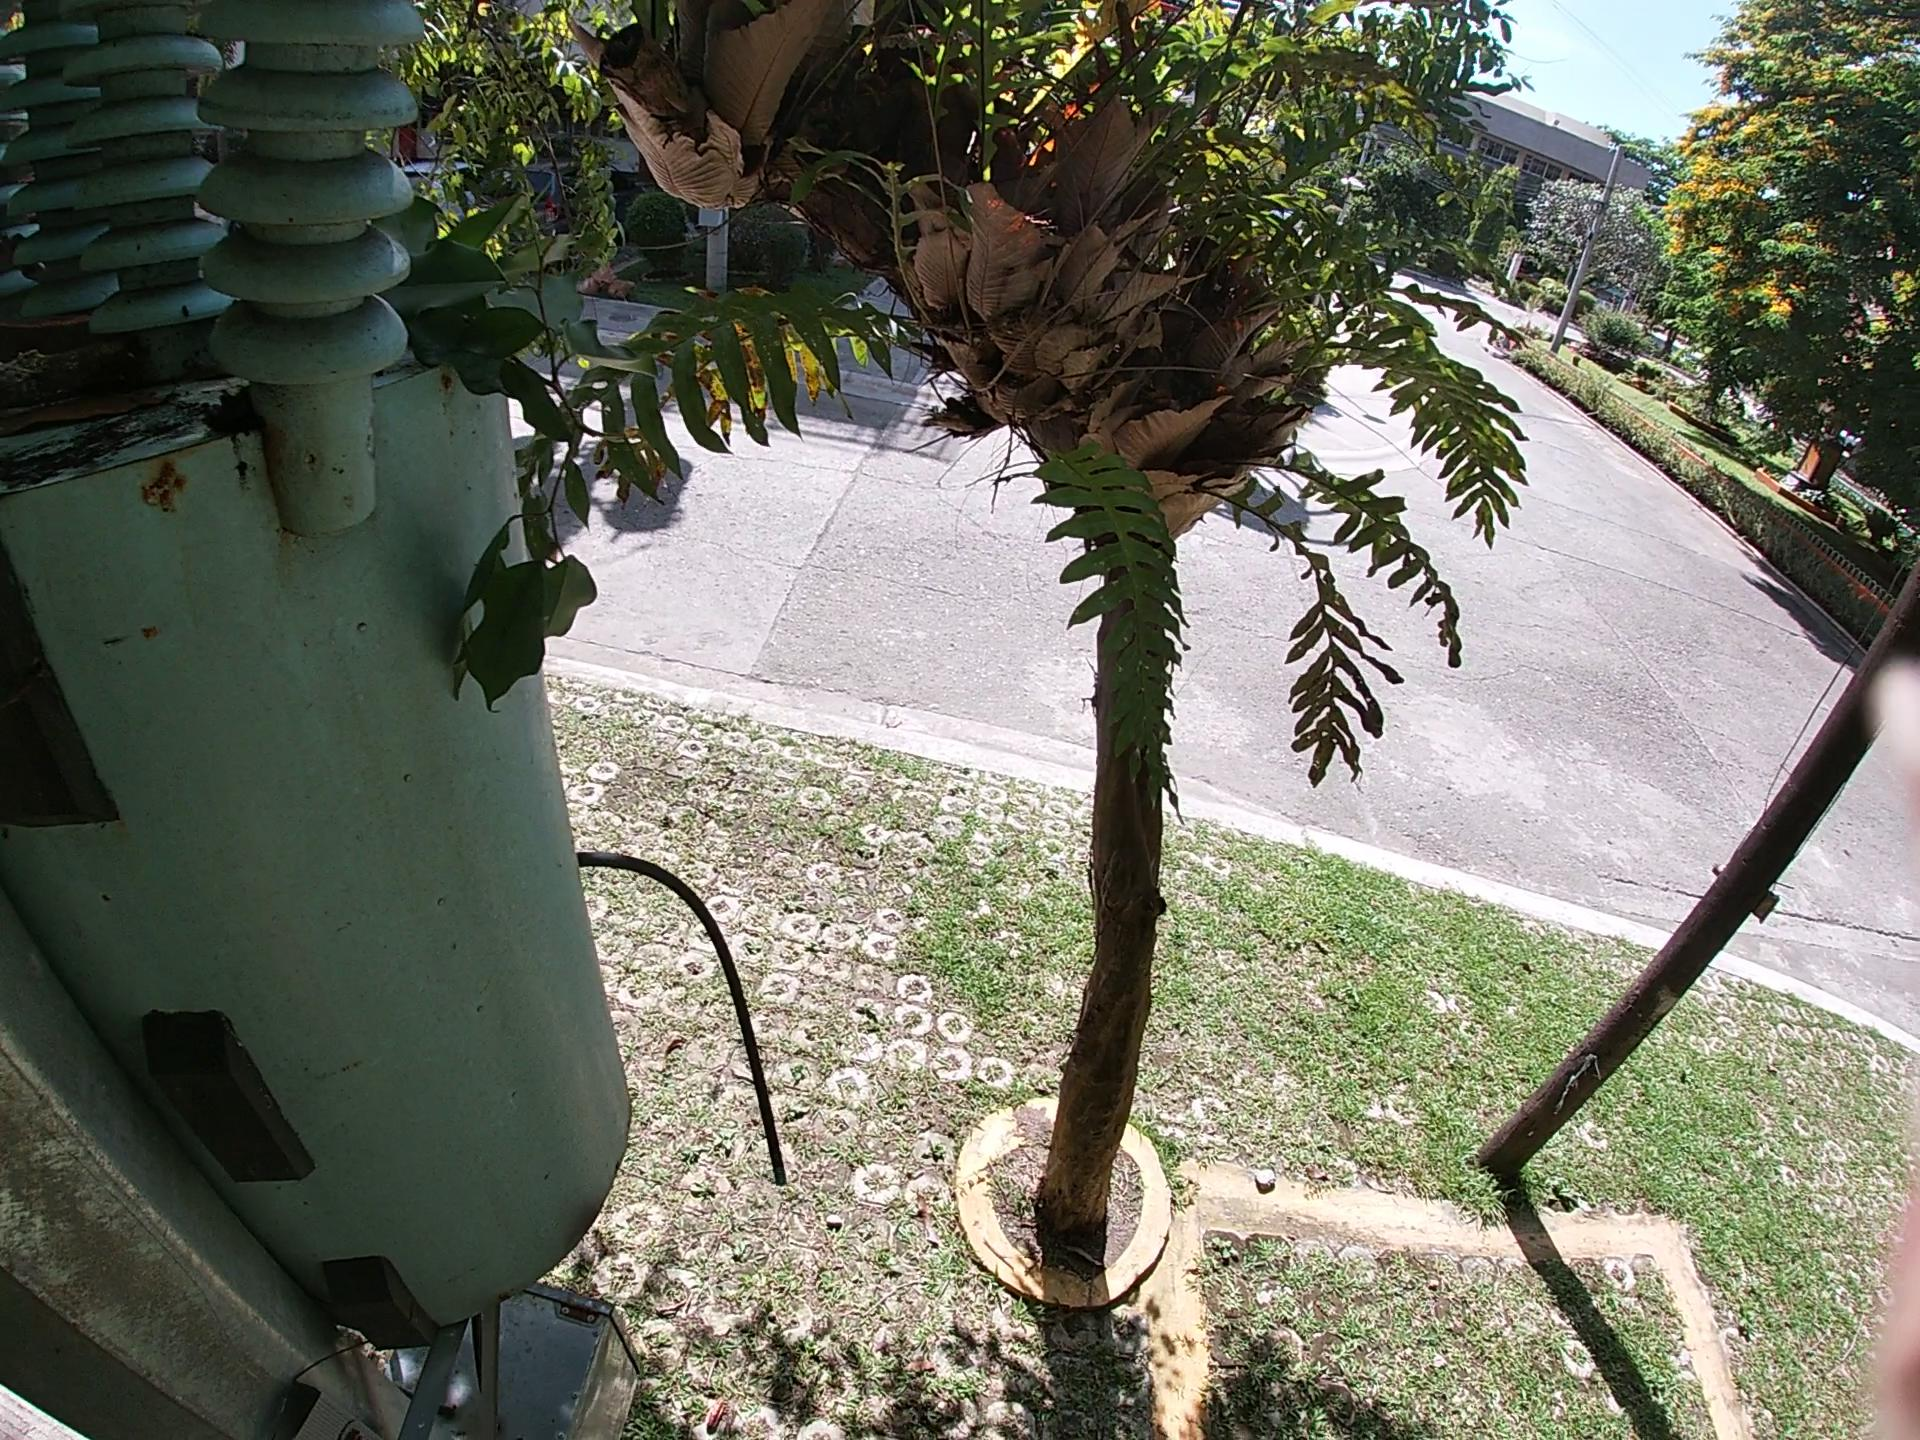branch with leaves: (330, 206, 608, 714)
leaf: (6, 390, 166, 424)
mahogany fruit: (6, 295, 98, 325)
tree branch: (5, 337, 180, 375)
